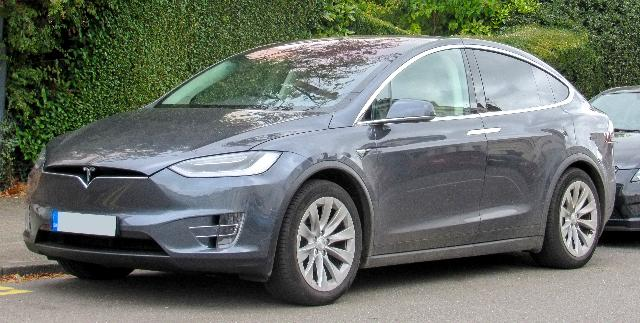tesla: (21, 34, 616, 306)
